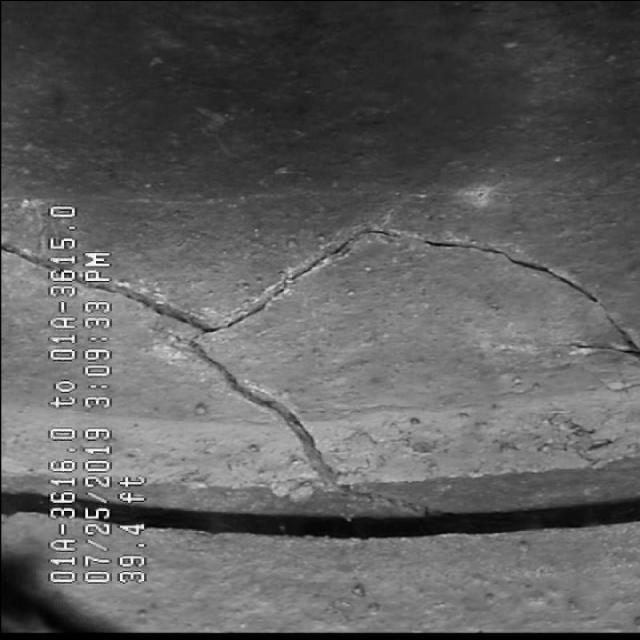Crack: (142, 198, 540, 458)
